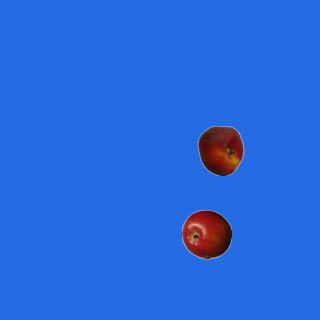Apple Braeburn: (181, 209, 231, 259)
Nectarine Flat: (195, 125, 245, 175)
